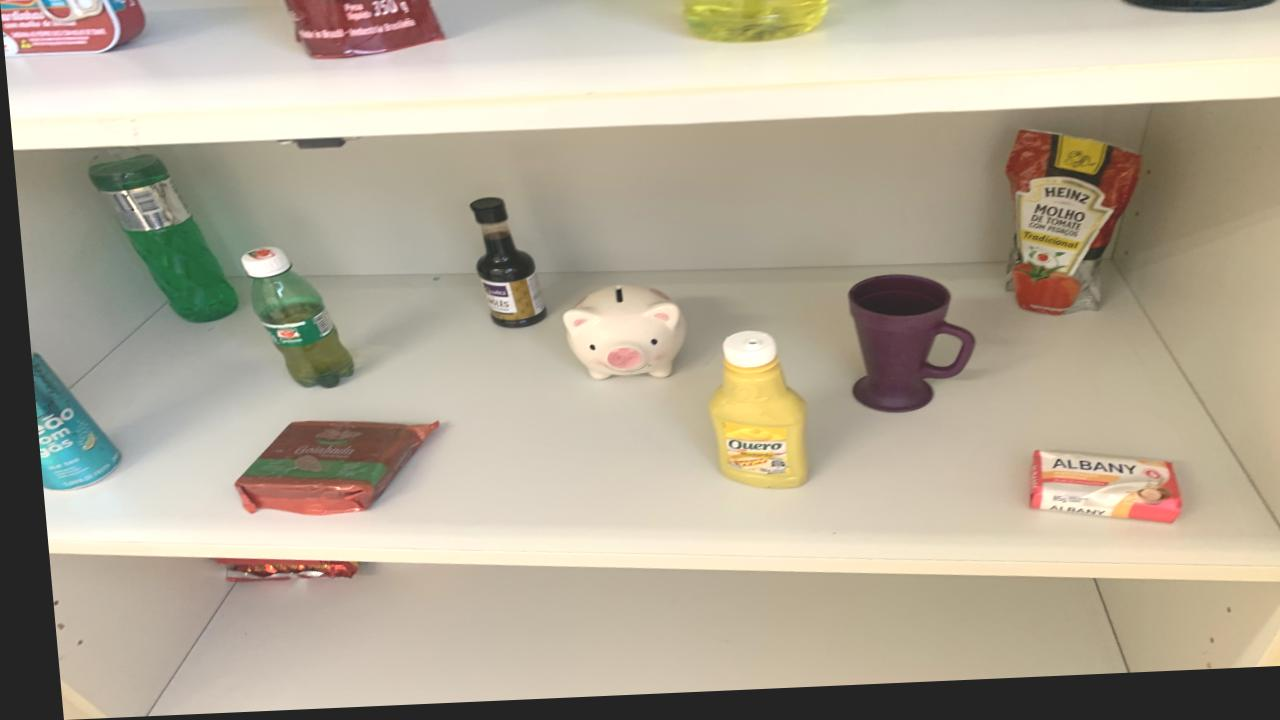Detergent-Cleanup_Items: (85, 155, 232, 324), (682, 0, 828, 49)
English_Sauce-Pantry_Items: (466, 201, 541, 332)
Guarana-Drinks: (236, 248, 347, 391)
Guava-Snacks: (225, 423, 431, 518)
Mustard-Pantry_Items: (700, 337, 800, 496)
Pig_Safe-Miscellaneous: (556, 290, 680, 385)
Soap-Cleanup_Items: (1020, 460, 1172, 533)
Tea-Drinks: (25, 352, 112, 491)
Tomato_Sauce-Pantry_Items: (1000, 139, 1138, 324), (283, 0, 444, 62)
Tuna_Can-Pantry_Items: (0, 0, 145, 56)
